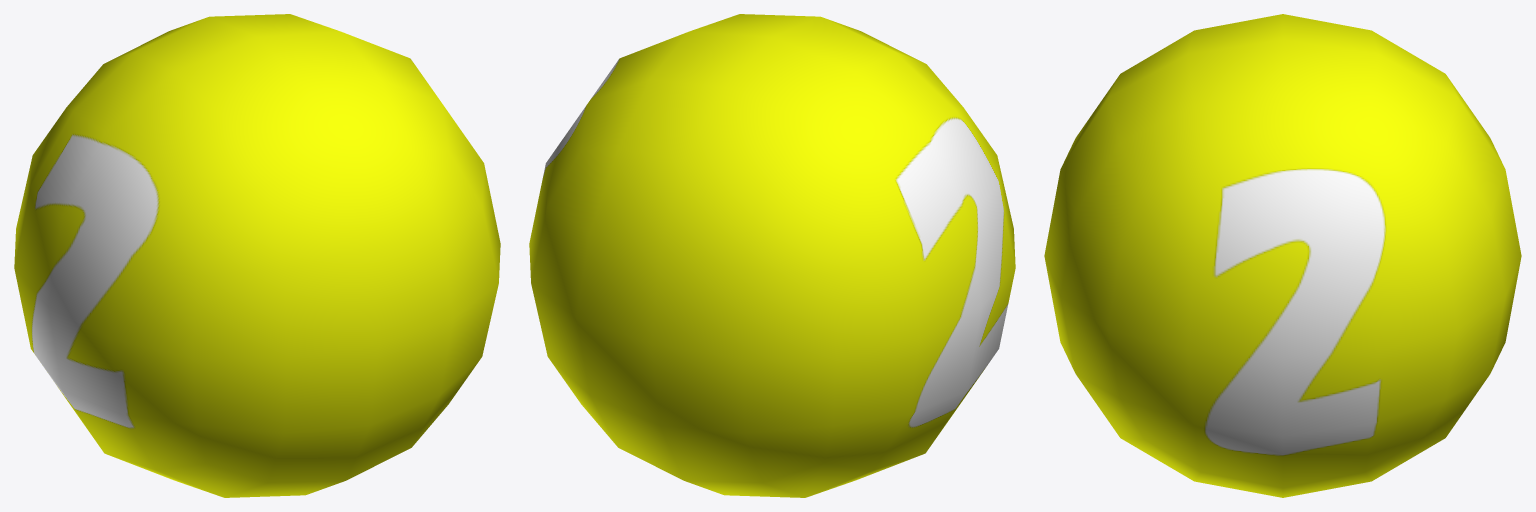
File: Weight_2.fbx
3 views of the same model, side by side, from view 1: azimuth 30°, elevation 25°; view 2: azimuth 150°, elevation 25°; view 3: azimuth 270°, elevation 25° (orthographic).
Visible parts, largest first — view 1: Weight_2; view 2: Weight_2; view 3: Weight_2.
Boxes of the visible parts, x1,y1,x2,y2 form: Weight_2: (14,14,500,497); Weight_2: (529,14,1015,497); Weight_2: (1044,14,1521,497).
Bounding box in the file's own units: 52.71 × 52.71 × 52.71.
